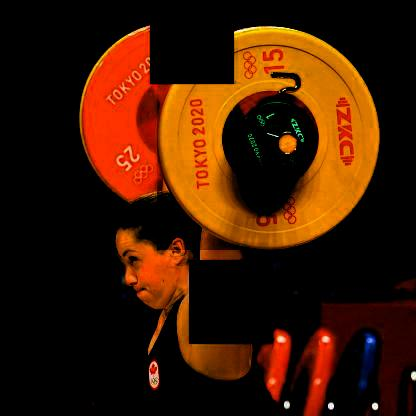barbell: (157, 28, 381, 251)
